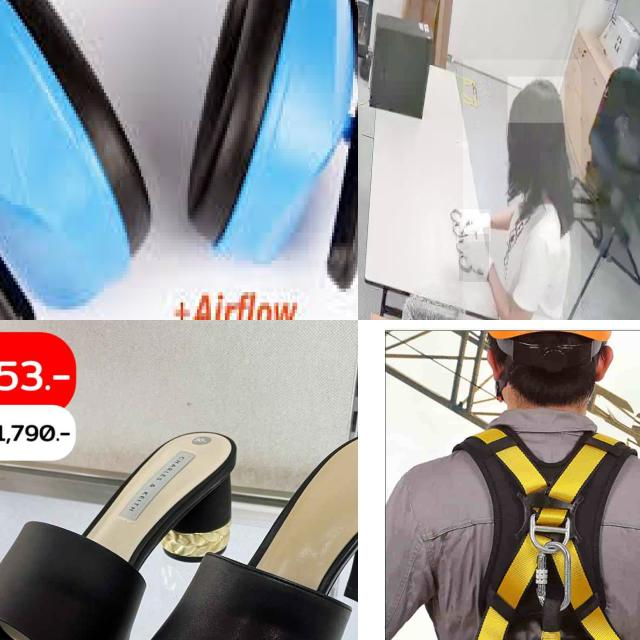Ear-protection: (180, 0, 357, 267), (0, 0, 152, 309)
Harness: (427, 422, 640, 640)
Sandals: (0, 382, 358, 640)
hand_glove: (459, 234, 489, 282), (457, 209, 491, 242)
head_nohelmet: (507, 76, 565, 124)
person: (462, 59, 581, 320)
